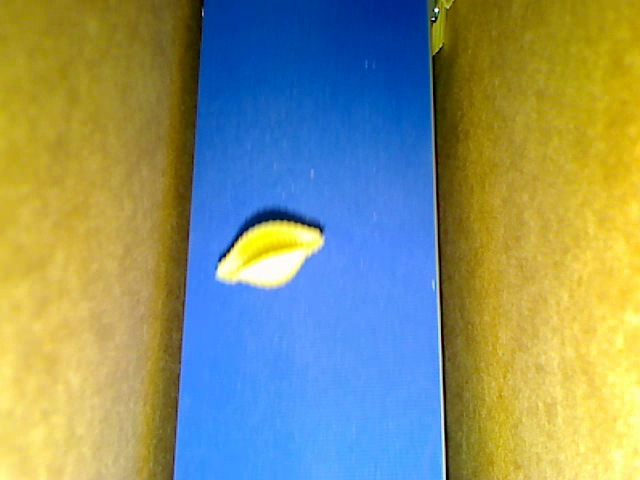penne: (426, 1, 446, 58), (437, 1, 458, 15)
shell: (216, 216, 322, 292)
